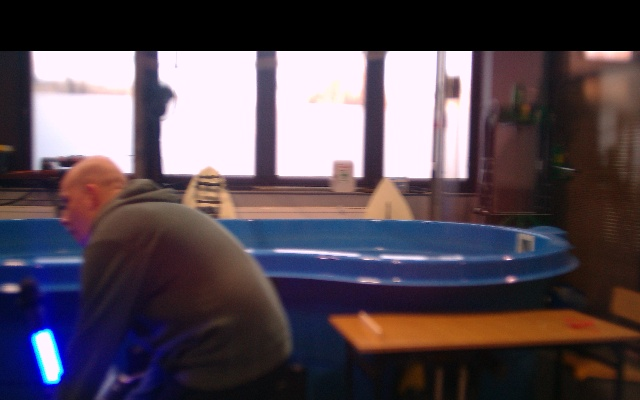blue: (30, 329, 64, 385)
